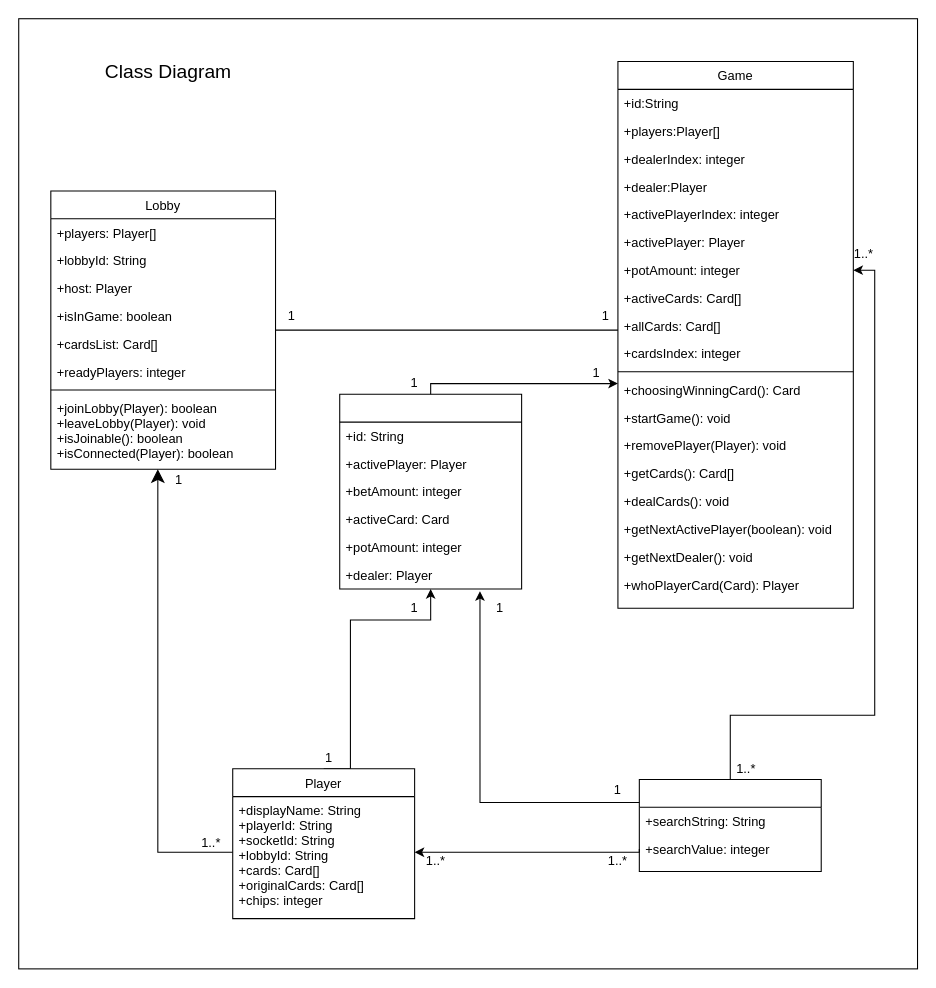
The diagram is 936 pixels wide and 988 high, and some of its shapes have lost their labels. Here are the shapes that lost their labels. From the top down, the box of each, then its label:
(339, 393, 522, 589): GameInfo
(638, 778, 821, 872): Card
